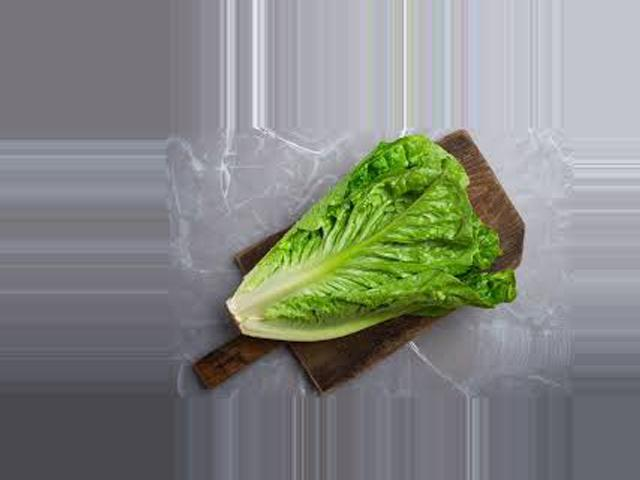lettuce: (213, 136, 515, 372)
